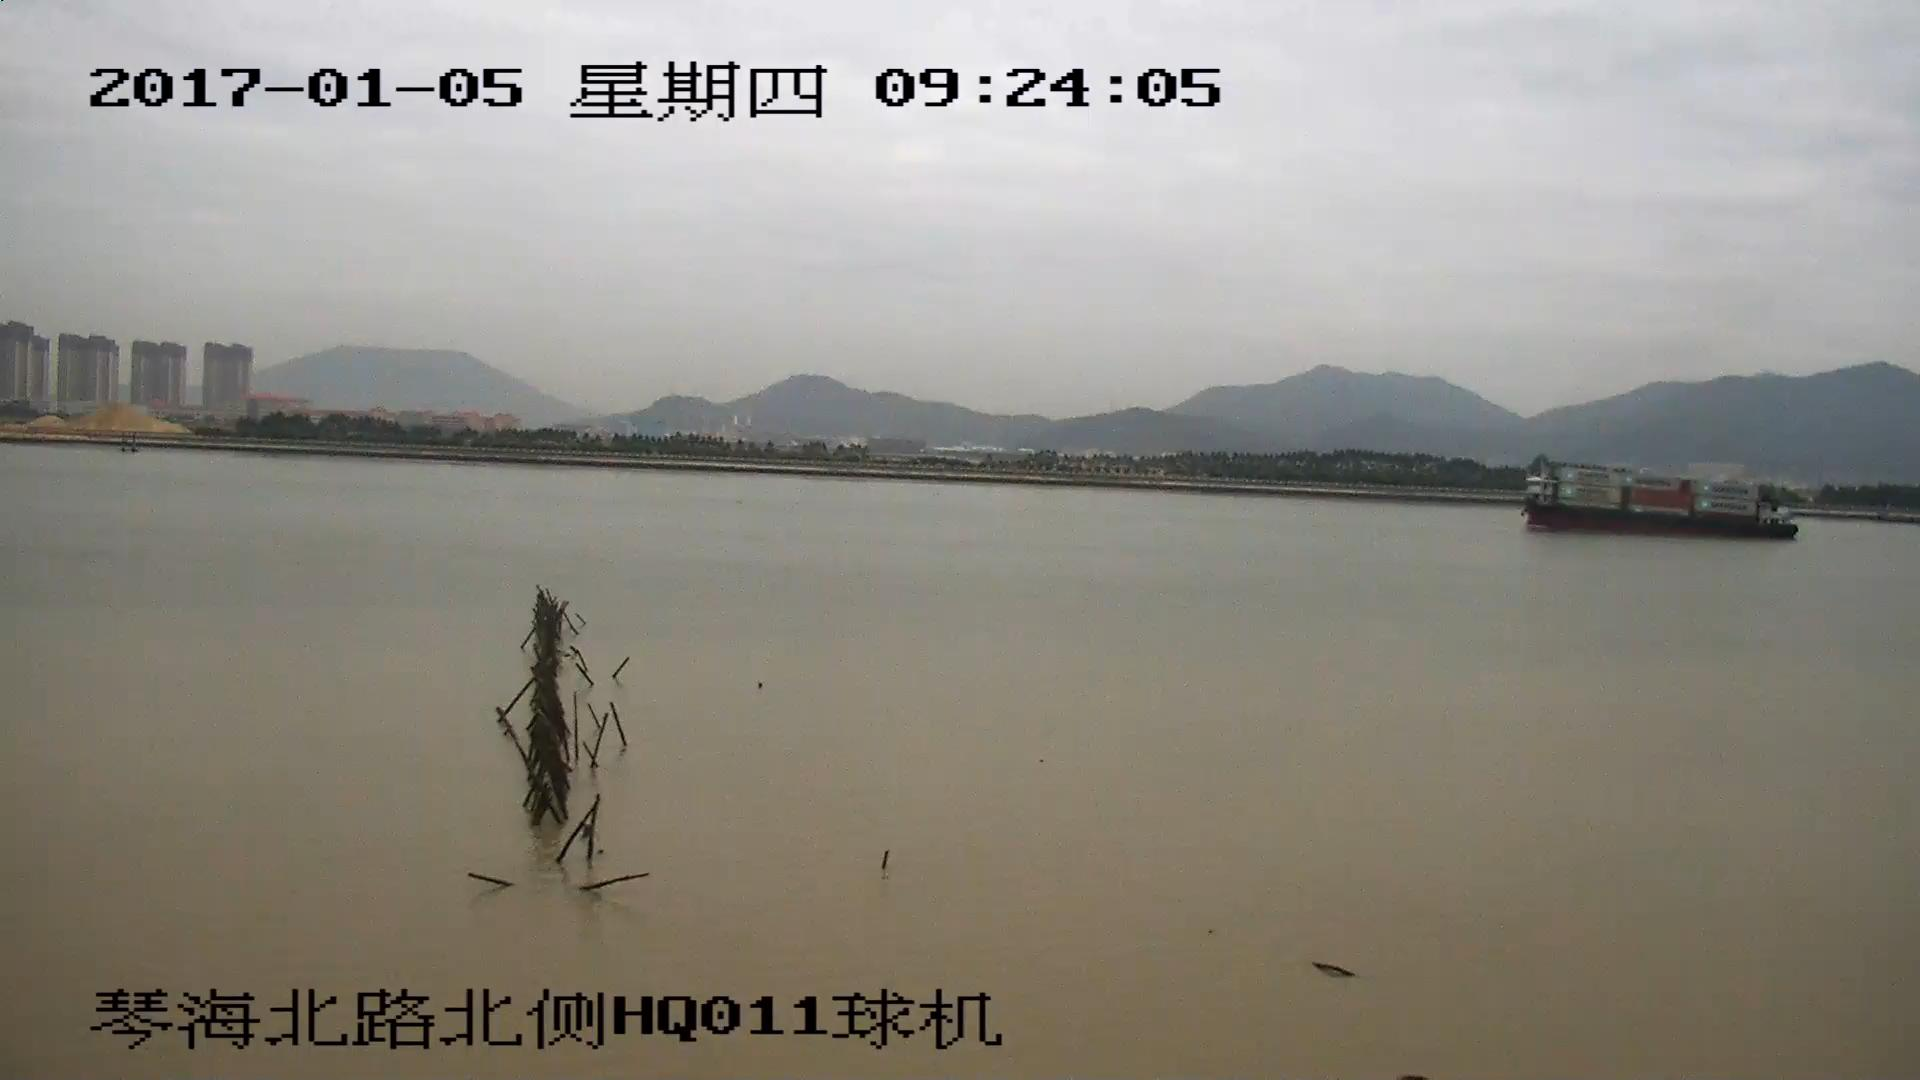container ship: (1520, 463, 1798, 536)
